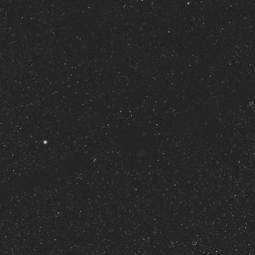smart_1: (106, 118, 170, 170)
